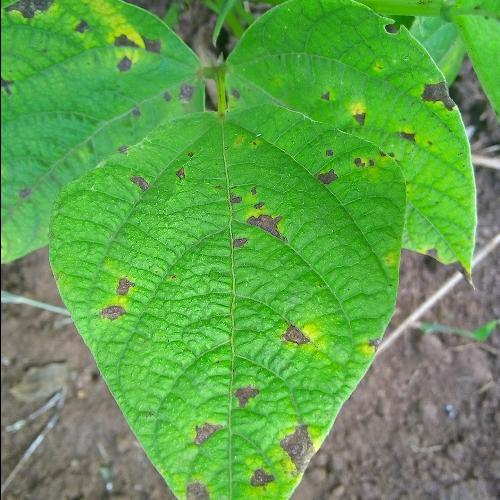hawar: (1, 0, 205, 117), (326, 61, 464, 146), (205, 175, 316, 270), (82, 258, 150, 335), (271, 401, 311, 477), (184, 405, 240, 458), (270, 302, 316, 364)
